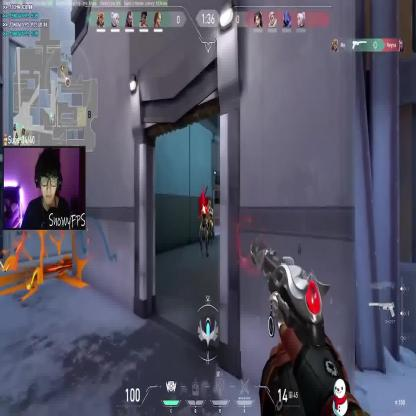enemy: (206, 198, 213, 247)
enemy_head: (207, 199, 211, 208)
